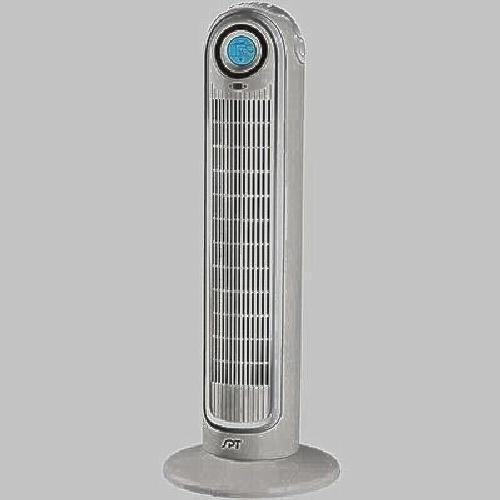kettle: (180, 13, 344, 484)
